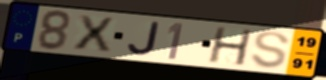1: (166, 22, 185, 61)
8: (36, 9, 74, 52)
H: (206, 26, 255, 68)
J: (125, 20, 162, 57)
S: (249, 30, 292, 70)
X: (72, 14, 116, 53)
